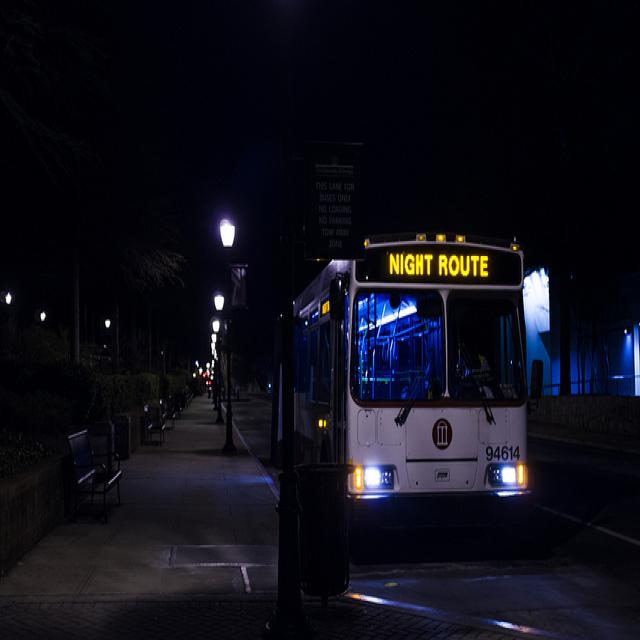Bus: (290, 218, 548, 557)
chair: (71, 415, 126, 527), (144, 368, 193, 439), (136, 385, 169, 446)
